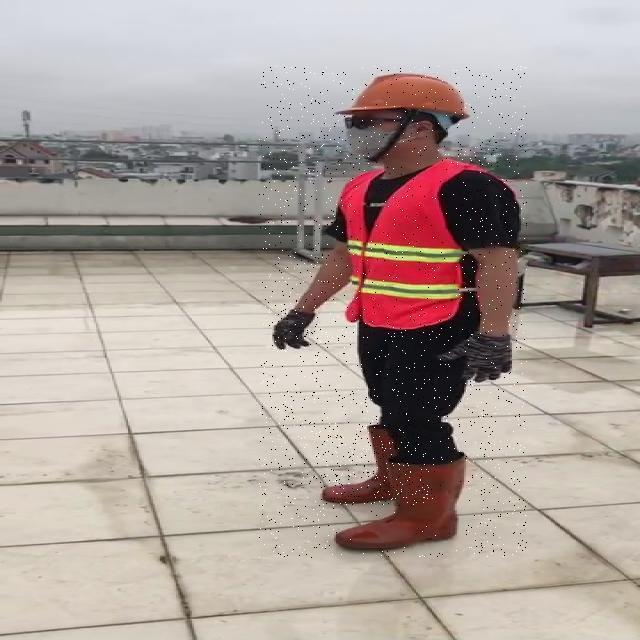boots: (321, 411, 477, 543)
gloves: (438, 331, 513, 383), (272, 307, 315, 349)
hard-hat: (333, 71, 470, 129)
person: (272, 72, 520, 551)
vest: (321, 157, 495, 327)
